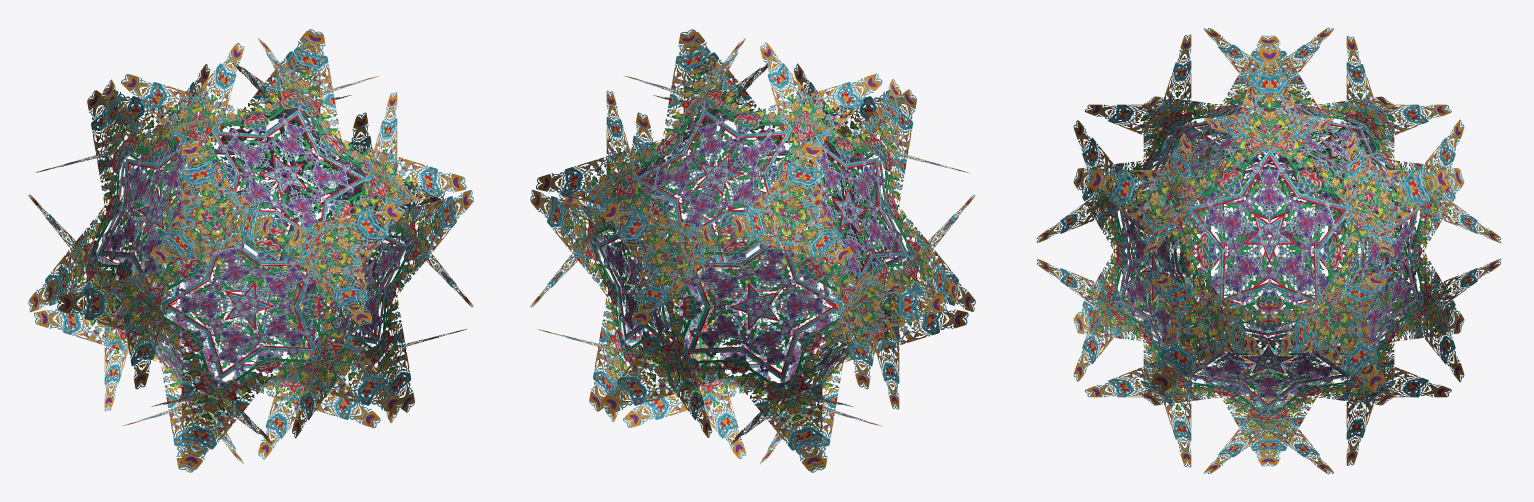
File: 9GreatIcosidodecahedron.gltf
3 renders of one model, left to right at view 1: azimuth 30°, elevation 25°; view 2: azimuth 150°, elevation 25°; view 3: azimuth 270°, elevation 25°, orthographic.
Visible parts, largest first — view 1: GreatIcosidodecahedron8; view 2: GreatIcosidodecahedron8; view 3: GreatIcosidodecahedron8.
Boxes of the visible parts, bbox=[...] form: GreatIcosidodecahedron8: bbox=[28, 29, 473, 472]; GreatIcosidodecahedron8: bbox=[530, 29, 975, 472]; GreatIcosidodecahedron8: bbox=[1036, 27, 1501, 474].
Size of the model in its own units: 1.24 by 1.24 by 1.24.
1 material, 1 textured.
